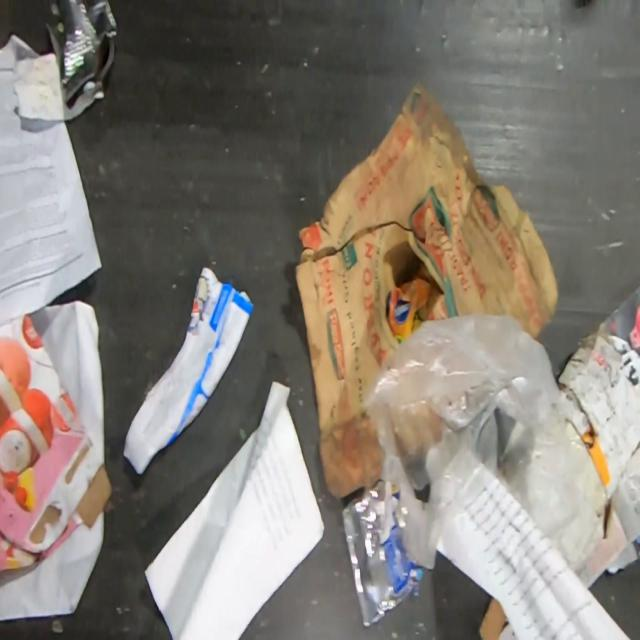cardboard: (294, 81, 560, 500), (0, 314, 114, 572), (557, 284, 640, 506)
metal: (44, 0, 119, 105)
soft_plastic: (364, 312, 608, 578), (341, 485, 427, 629)
